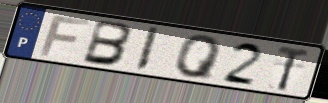2: (218, 41, 267, 87)
B: (80, 18, 136, 68)
F: (37, 14, 93, 58)
I: (132, 25, 162, 73)
Q: (174, 34, 224, 82)
T: (275, 44, 312, 93)
